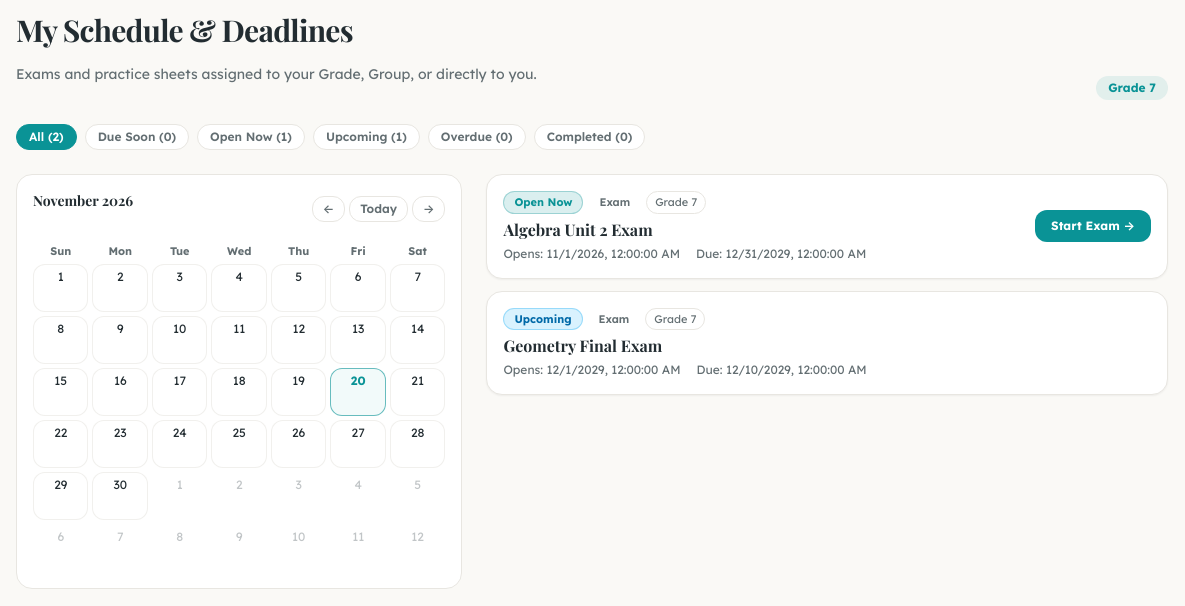
Test: Schedule page (/schedule) › renders monthly calendar, status badges, and filters by status pill
Check: the heading "Algebra Unit 2 Exam" is shown, box x1=503 y1=218 x2=653 y2=240
Check: the heading "Geometry Final Exam" is shown, box x1=503 y1=335 x2=662 y2=356
# Filter to Upcoming only
Step 1. Click the button "Upcoming (1)" → {"x": 366, "y": 137}, box x1=313 y1=124 x2=420 y2=150
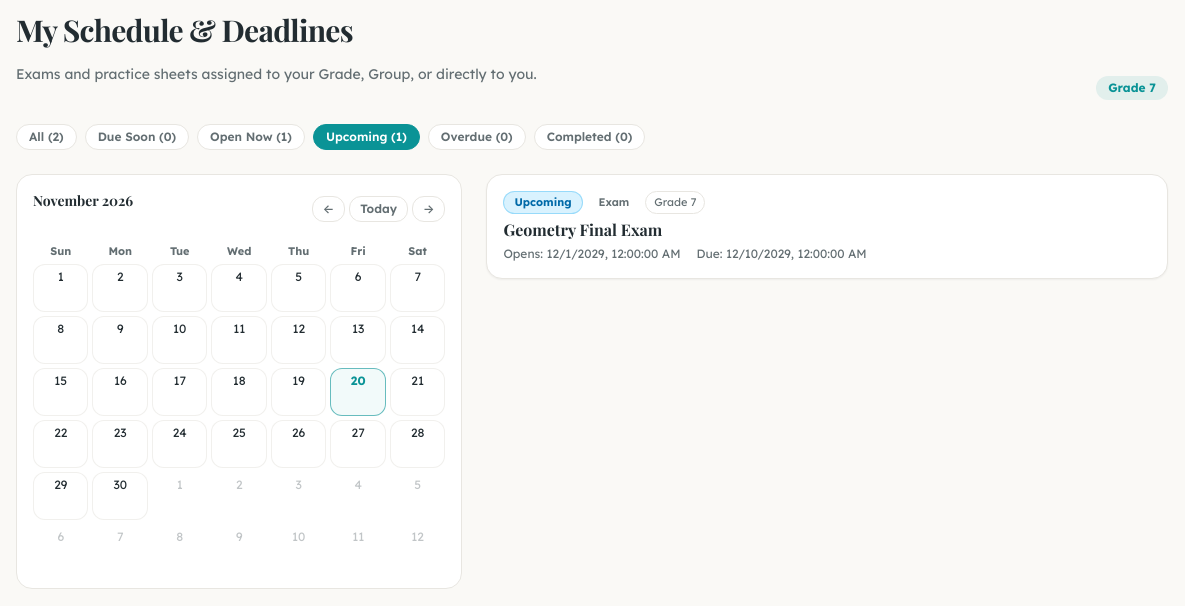
Check: the heading "Geometry Final Exam" is shown, box x1=503 y1=218 x2=662 y2=240
Check: the heading "Algebra Unit 2 Exam" is gone
